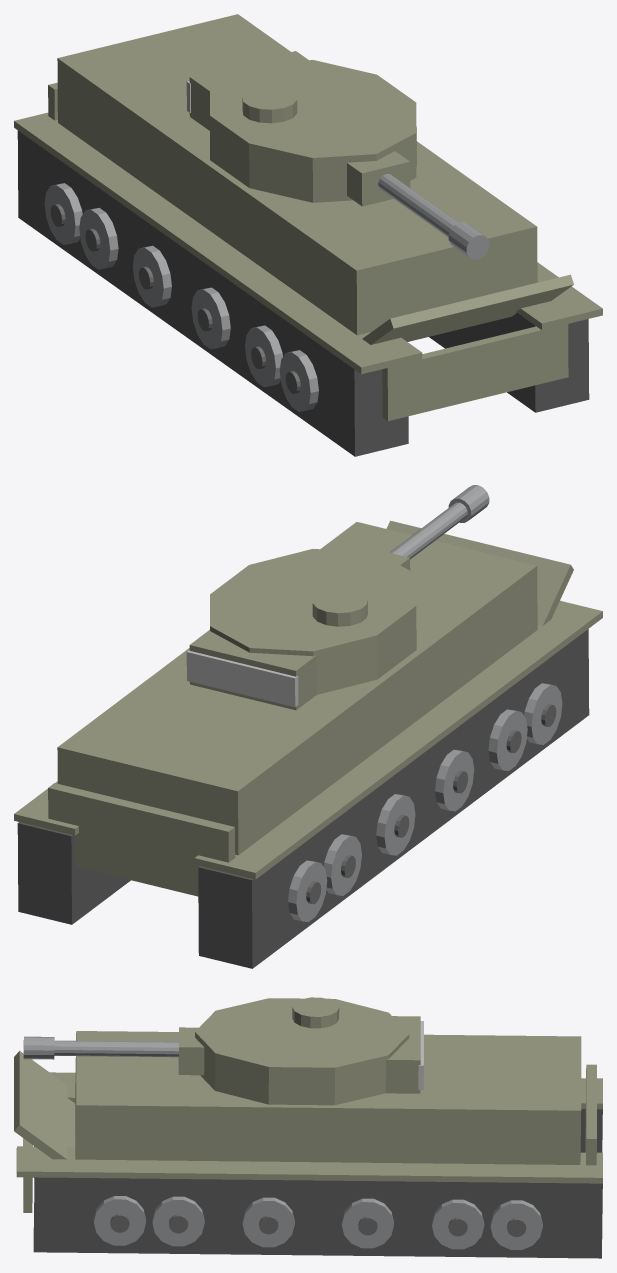
File: sherman.glb
3 renders of one model, top to bottom at view 1: azimuth 30°, elevation 25°; view 2: azimuth 150°, elevation 25°; view 3: azimuth 270°, elevation 25°, orthographic. The views are drawn at different scales.
Visible parts, largest first — view 1: Hull, Track, TurretBody, Fender, NosePlate, Glacis, Track.001, Fender.001, Mantlet, Cupola, Bustle, Wheel.002 (+7 smaller); view 2: Hull, Track, TurretBody, Fender, RearPlate, Track.001, FactionBand, Bustle, Glacis, Cupola, Wheel.001, Wheel.003 (+7 smaller); view 3: Hull, Track.001, TurretBody, Fender.001, Glacis, Bustle, Barrel, Wheel.010, Wheel.008, Wheel.007, Wheel.009, Wheel.006 (+8 smaller).
Boxes of the visible parts, bbox=[...] form: Hull: bbox=[57, 14, 537, 335]; Track: bbox=[17, 130, 408, 456]; TurretBody: bbox=[210, 60, 416, 202]; Fender: bbox=[14, 112, 422, 374]; NosePlate: bbox=[382, 324, 568, 421]; Glacis: bbox=[362, 274, 573, 344]; Track.001: bbox=[429, 313, 589, 412]; Fender.001: bbox=[516, 262, 602, 330]; Mantlet: bbox=[347, 151, 410, 206]; Cupola: bbox=[242, 87, 297, 123]; Bustle: bbox=[189, 51, 308, 130]; Wheel.002: bbox=[191, 287, 230, 349]; Hull: bbox=[57, 522, 537, 855]; Track: bbox=[198, 629, 589, 968]; TurretBody: bbox=[210, 549, 416, 694]; Fender: bbox=[194, 600, 602, 879]; RearPlate: bbox=[48, 783, 235, 896]; Track.001: bbox=[17, 822, 130, 924]; FactionBand: bbox=[186, 650, 298, 706]; Bustle: bbox=[189, 630, 316, 710]; Glacis: bbox=[386, 520, 573, 625]; Cupola: bbox=[312, 589, 367, 626]; Wheel.001: bbox=[488, 709, 527, 770]; Wheel.003: bbox=[376, 794, 415, 855]; Hull: bbox=[75, 1031, 581, 1164]; Track.001: bbox=[33, 1177, 602, 1258]; TurretBody: bbox=[195, 998, 409, 1105]; Fender.001: bbox=[16, 1146, 602, 1183]; Glacis: bbox=[14, 1050, 75, 1159]; Bustle: bbox=[385, 1016, 420, 1093]; Barrel: bbox=[54, 1040, 178, 1057]; Wheel.010: bbox=[432, 1199, 484, 1249]; Wheel.008: bbox=[242, 1197, 294, 1247]; Wheel.007: bbox=[152, 1196, 204, 1246]; Wheel.009: bbox=[341, 1198, 393, 1248]; Wheel.006: bbox=[93, 1196, 145, 1245].
Size of the model in its own units: 2.8 by 2.31 by 6.53.
